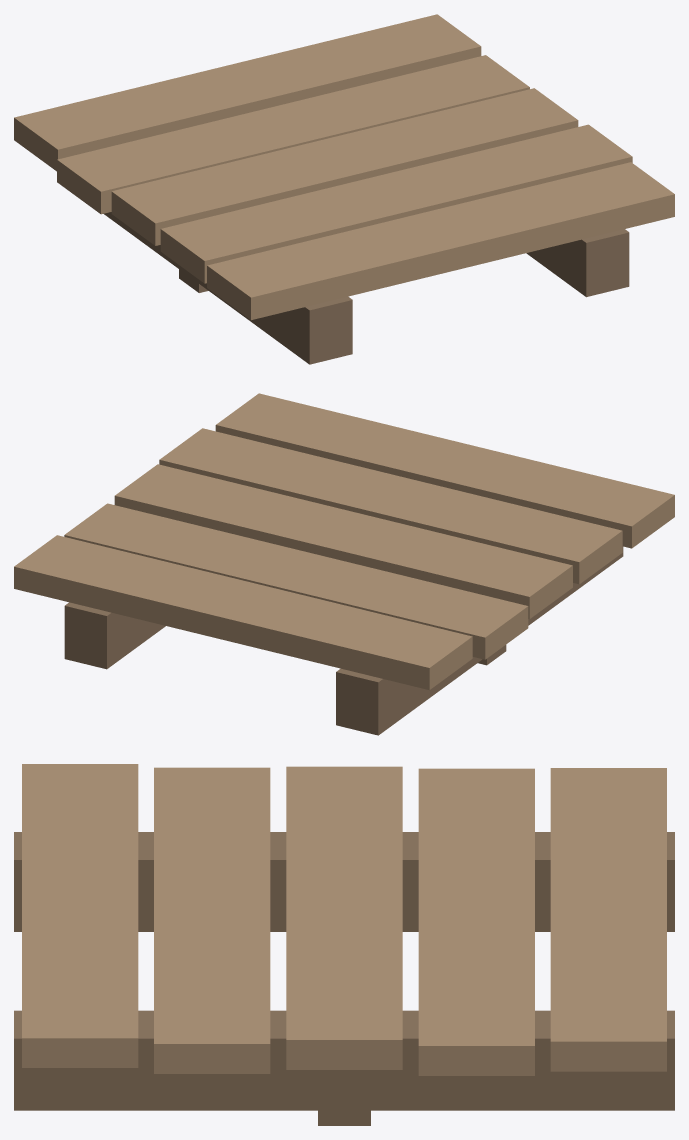
Rendered from bridge-wood-deck.glb.
3 renders of one model, top to bottom at view 1: azimuth 30°, elevation 25°; view 2: azimuth 150°, elevation 25°; view 3: azimuth 270°, elevation 25°, orthographic. The views are drawn at different scales.
Visible parts, largest first — view 1: bridge-wood-deck; view 2: bridge-wood-deck; view 3: bridge-wood-deck.
Boxes of the visible parts, box(x1,y1,x2,y2) form: bridge-wood-deck: box(14, 14, 674, 364); bridge-wood-deck: box(14, 393, 674, 735); bridge-wood-deck: box(14, 764, 674, 1125).
Size of the model in its own units: 0.999 by 0.2038 by 1.
